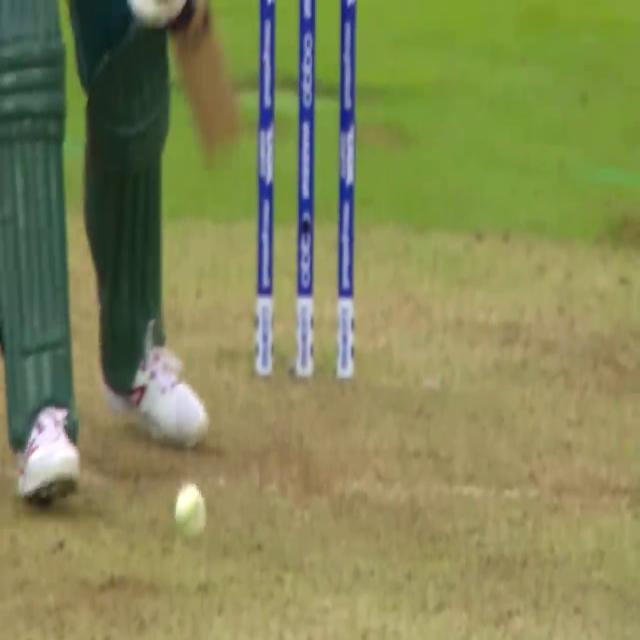ball: (172, 477, 208, 544)
